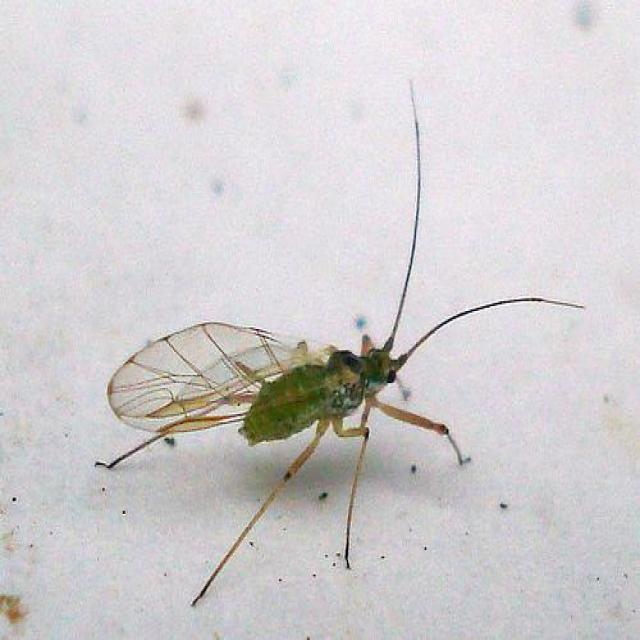Aphids: (75, 160, 581, 590)
